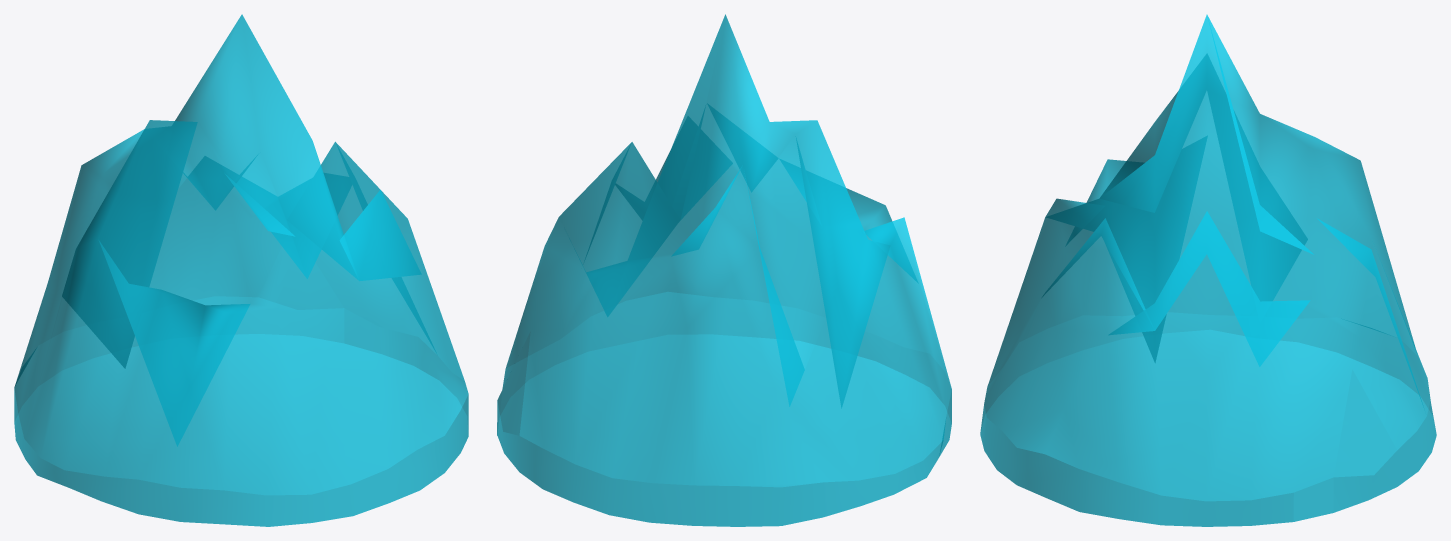
File: Iceberg.fbx
3 renders of one model, left to right at view 1: azimuth 30°, elevation 25°; view 2: azimuth 150°, elevation 25°; view 3: azimuth 270°, elevation 25°, orthographic.
Visible parts, largest first — view 1: pCube1; view 2: pCube1; view 3: pCube1.
Boxes of the visible parts, <box> form: pCube1: <box>14,14,468,526</box>; pCube1: <box>497,14,951,526</box>; pCube1: <box>980,14,1436,526</box>.
Bounding box in the file's own units: 4.46 × 4.5 × 4.38.
